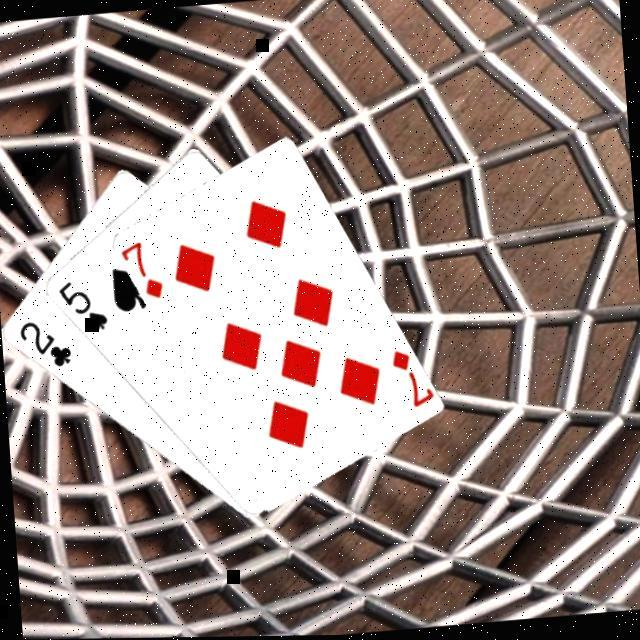2C: (15, 313, 76, 372)
5S: (55, 274, 112, 336)
7D: (118, 236, 166, 304), (388, 344, 433, 412)
